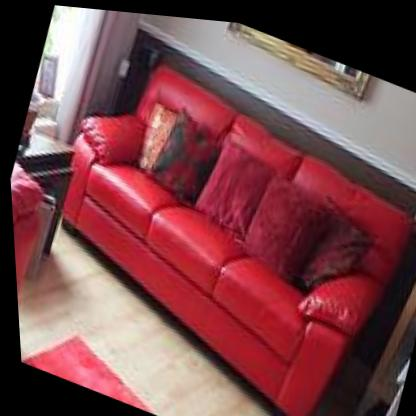Sofa: (8, 31, 416, 416)
